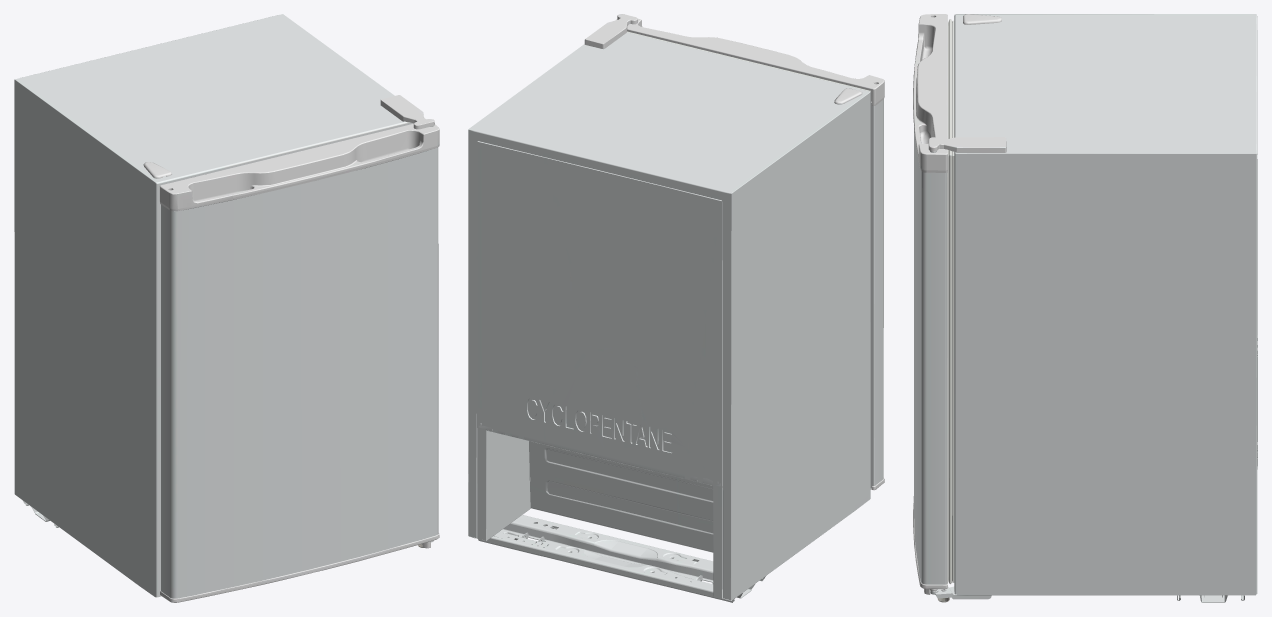
3 renders of one model, left to right at view 1: azimuth 30°, elevation 25°; view 2: azimuth 150°, elevation 25°; view 3: azimuth 270°, elevation 25°, orthographic. The views are drawn at different scales.
Visible parts, largest first — view 1: model; view 2: model; view 3: model.
Boxes of the visible parts, left/top/right/bottom form: model: left=14, top=14, right=439, bottom=602; model: left=468, top=14, right=884, bottom=602; model: left=913, top=14, right=1257, bottom=602.
Size of the model in its own units: 0.5489 by 0.8382 by 0.5695.
Materials: 2 (2 with a texture image).
